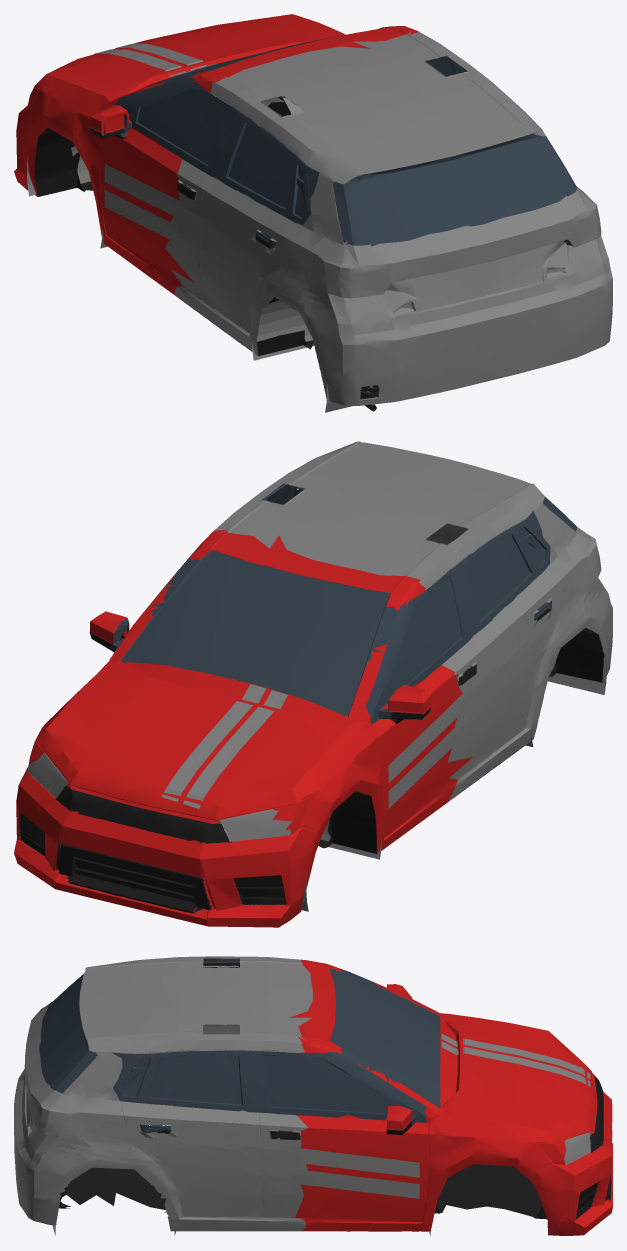
Rendered from Fahrschulwagen.obj.
3 renders of one model, top to bottom at view 1: azimuth 30°, elevation 25°; view 2: azimuth 150°, elevation 25°; view 3: azimuth 270°, elevation 25°, orthographic. The views are drawn at different scales.
Visible parts, largest first — view 1: Heckpartie, Glas, Karosserie, Verkleidung, StreifenBlau, StreifenRot, LichtH, Radhaus, HaubeRot, HaubeBlau; view 2: Karosserie, Heckpartie, Glas, Verkleidung, StreifenBlau, StreifenRot, LichtV, HaubeRot, HaubeBlau, Radhaus; view 3: Heckpartie, Karosserie, Glas, Verkleidung, StreifenBlau, StreifenRot, HaubeBlau, LichtH, HaubeRot, LichtV.
Boxes of the visible parts, box(x1,y1,x2,y2) form: Heckpartie: box(165, 31, 612, 405); Glas: box(115, 26, 576, 248); Karosserie: box(14, 14, 418, 300); Verkleidung: box(34, 69, 572, 411); StreifenBlau: box(104, 189, 325, 309); StreifenRot: box(104, 164, 323, 279); LichtH: box(317, 197, 601, 313); Radhaus: box(27, 96, 567, 412); HaubeRot: box(94, 49, 194, 188); HaubeBlau: box(115, 43, 216, 70); Karosserie: box(14, 529, 472, 927); Heckpartie: box(214, 441, 612, 801); Glas: box(110, 484, 577, 724); Verkleidung: box(19, 533, 604, 913); StreifenBlau: box(388, 579, 599, 808); StreifenRot: box(388, 557, 592, 783); LichtV: box(27, 753, 291, 841); HaubeRot: box(183, 690, 288, 808); HaubeBlau: box(161, 684, 266, 801); Radhaus: box(59, 661, 606, 911); Heckpartie: box(14, 956, 312, 1231); Karosserie: box(289, 959, 612, 1235); Glas: box(39, 962, 441, 1133); Verkleidung: box(59, 1075, 611, 1219); StreifenBlau: box(60, 1137, 419, 1198); StreifenRot: box(68, 1115, 419, 1177); HaubeBlau: box(441, 1041, 590, 1086); LichtH: box(31, 1007, 72, 1136); HaubeRot: box(441, 1033, 590, 1079); LichtV: box(564, 1131, 591, 1165).
Bounding box in the file's own units: 8.26 × 5.3 × 15.34.
